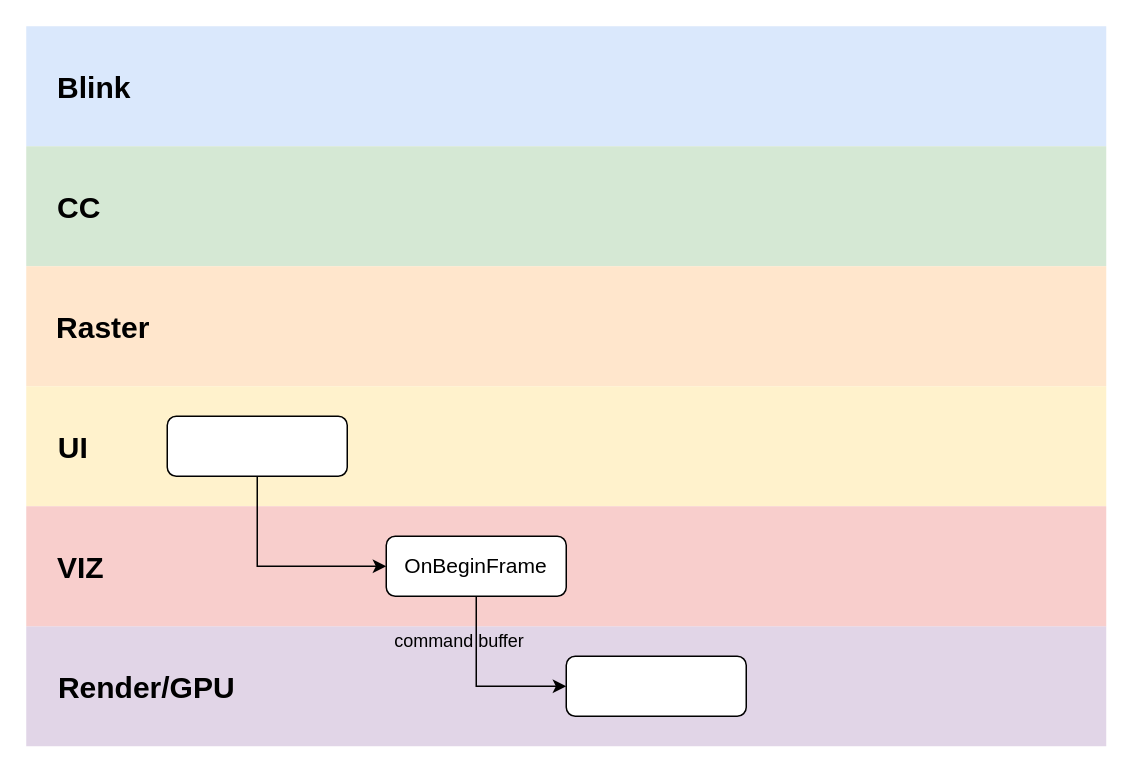
Image size: 1131x771. Some labels were removed from this diagram. The shapes that lost their labels are listed below. From the top down, each one's centre as x and y in pixels, then its label:
At point 256,445: "onVSync".
At point 655,685: "SwapBuffers".
